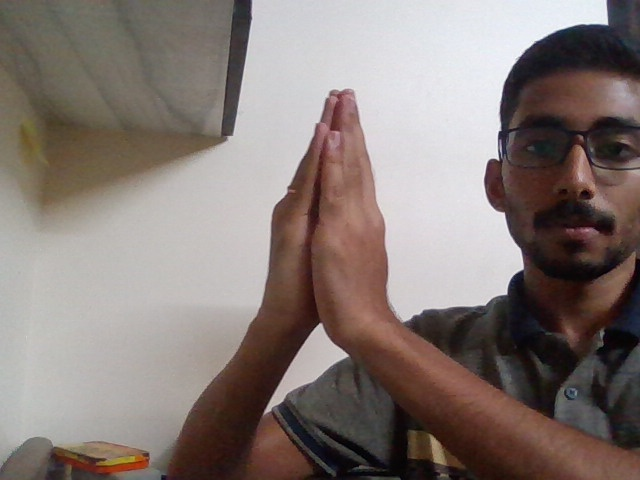Thank You: (258, 65, 407, 395)
